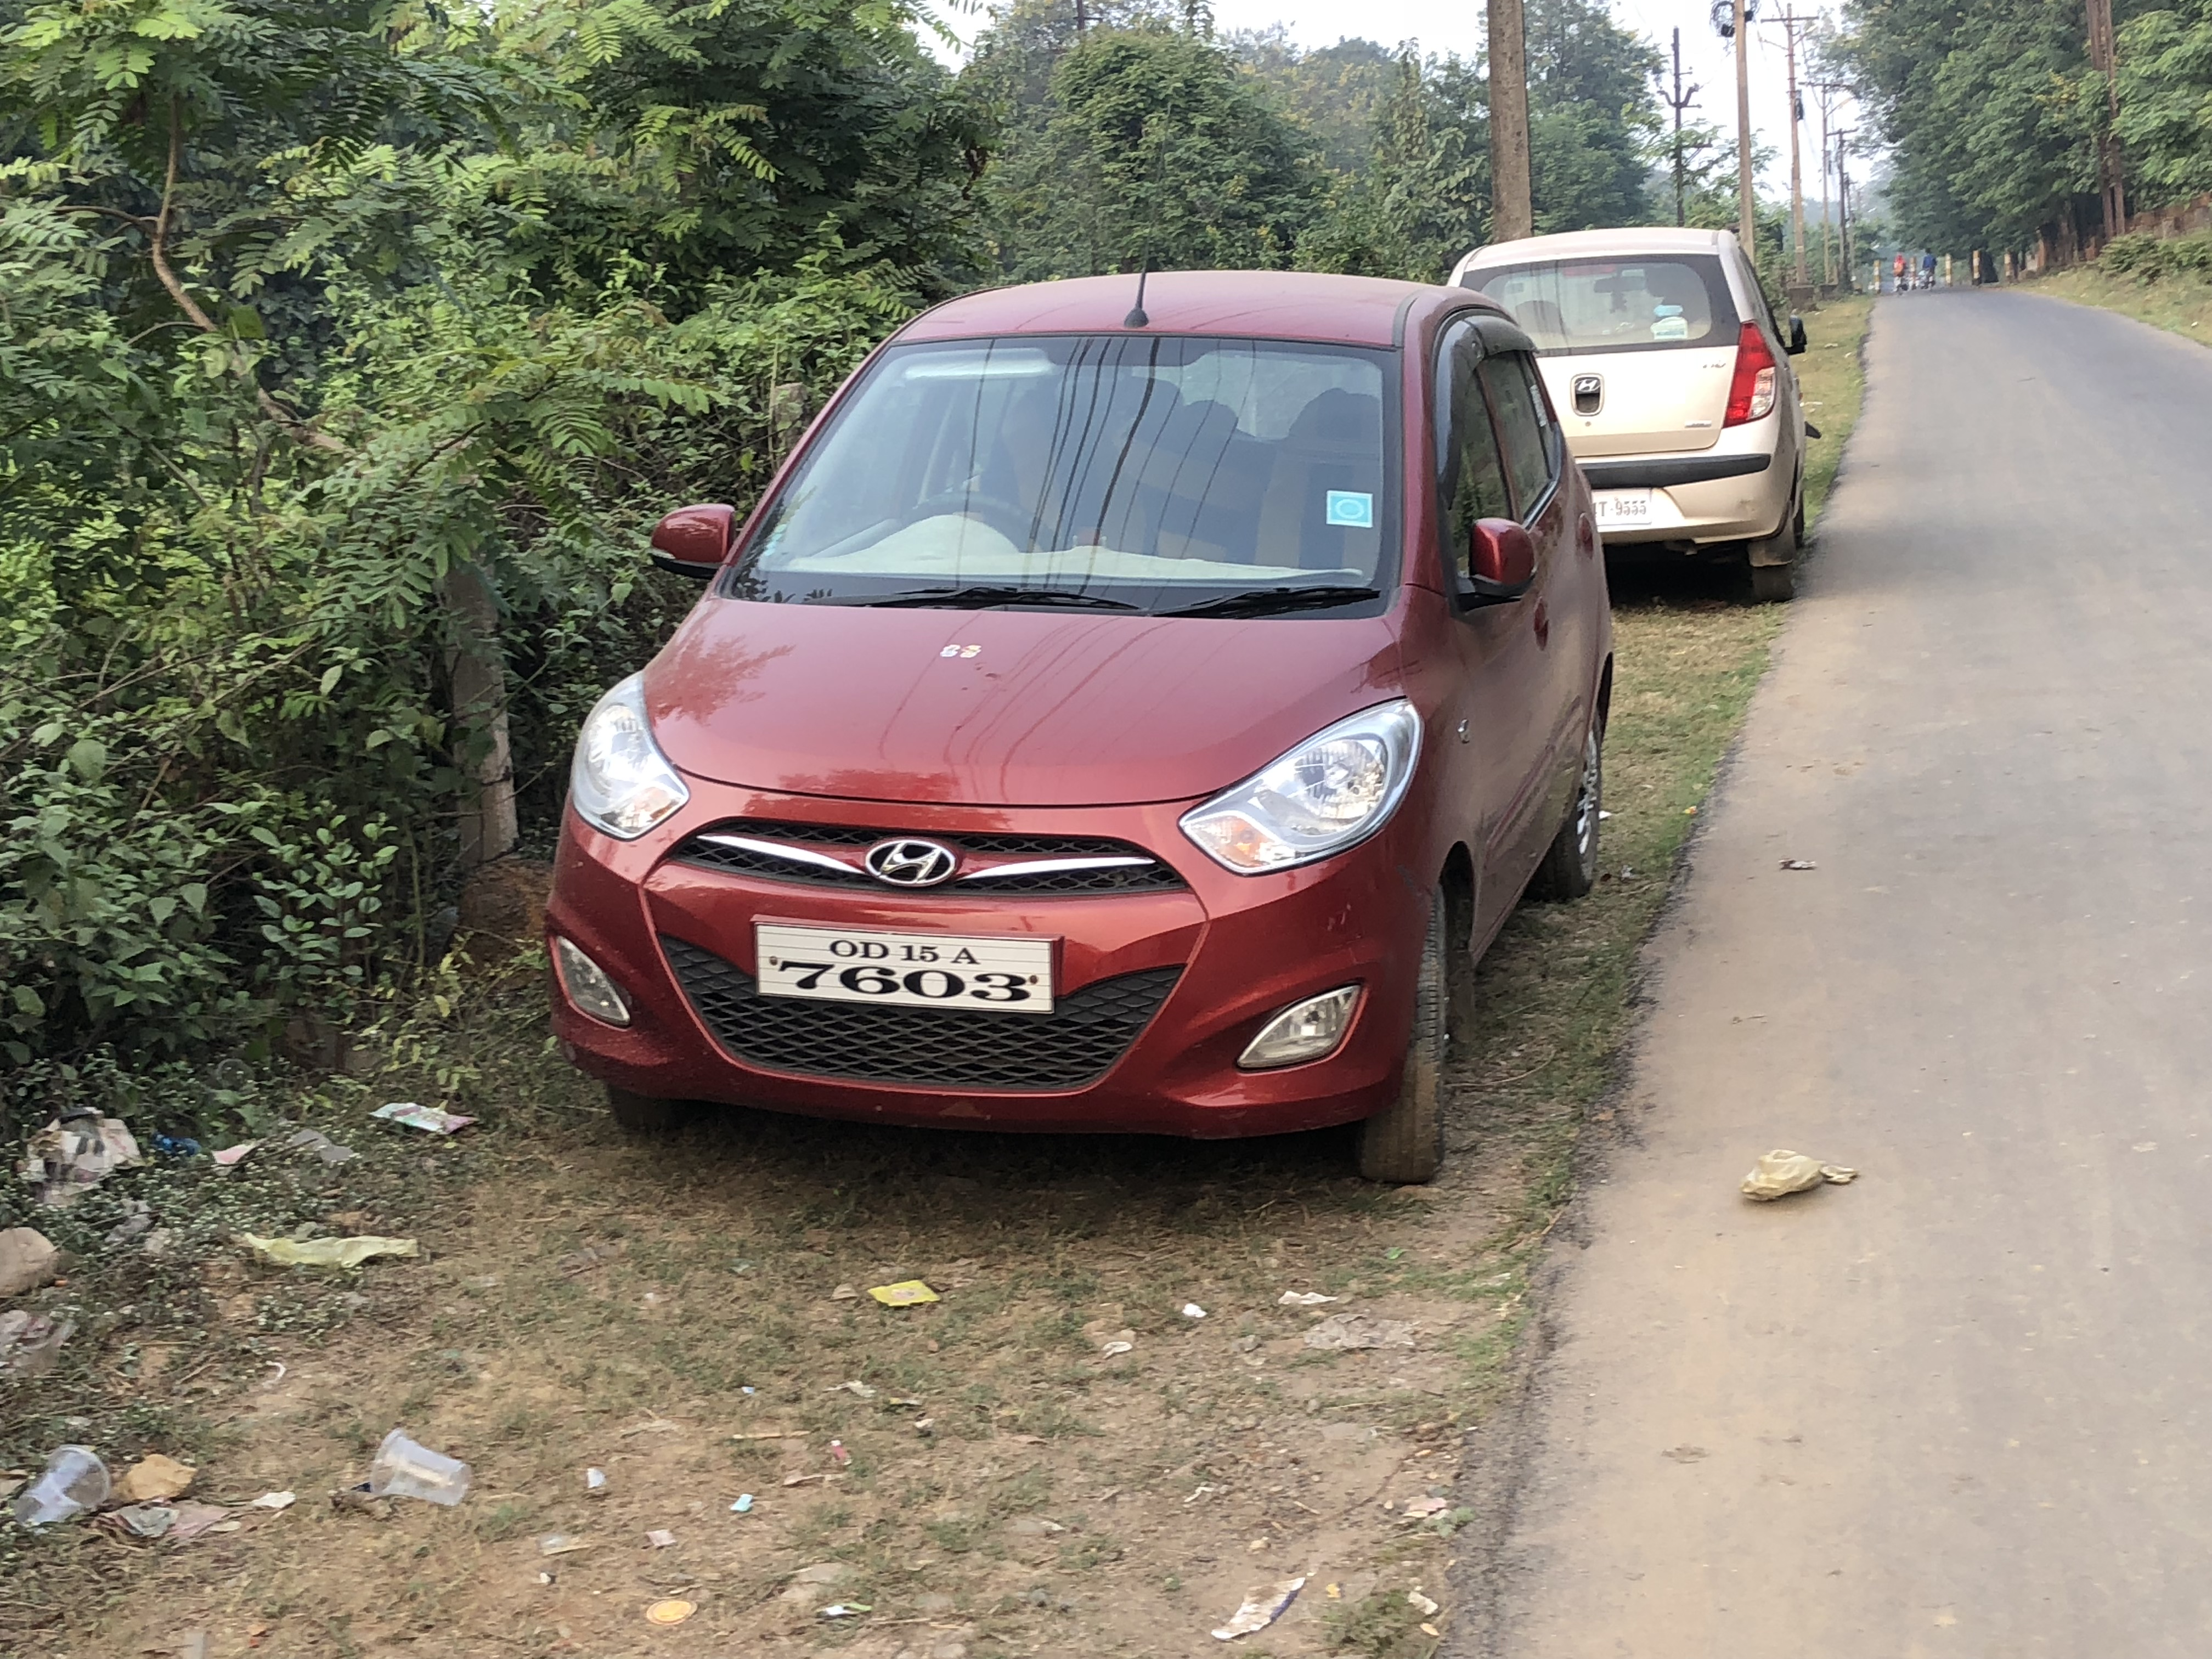licenseplate: (742, 907, 1075, 1028)
